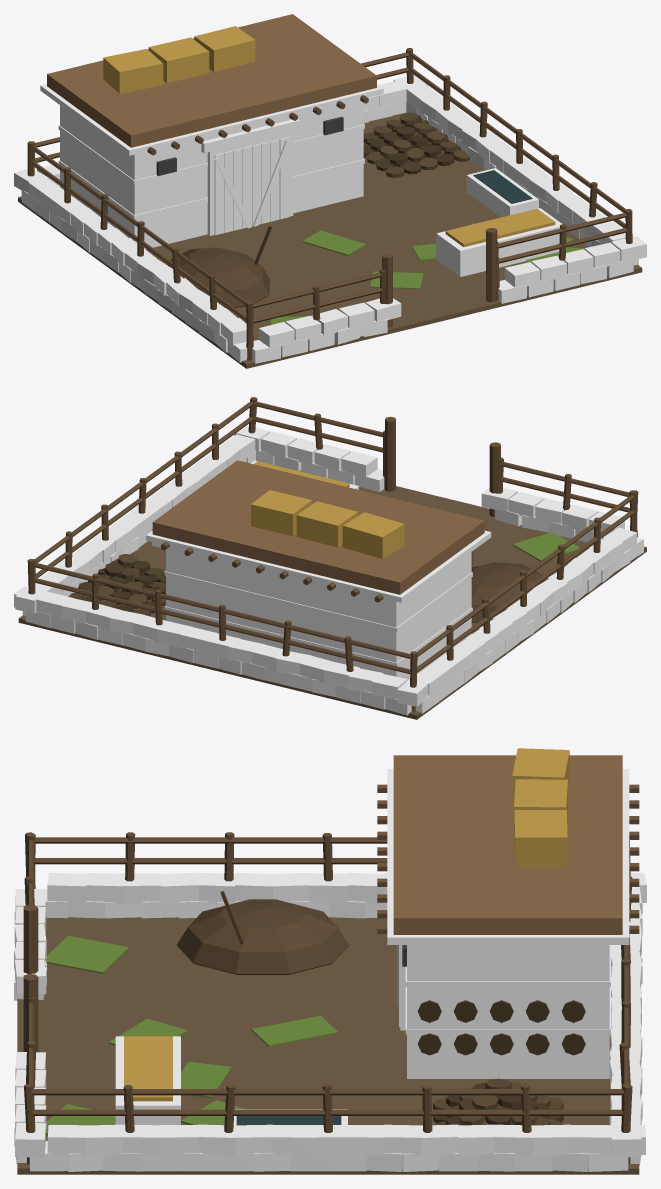
File: ahir.glb
The picture shows the model from 3 angles, top to bottom: view 1: azimuth 30°, elevation 25°; view 2: azimuth 150°, elevation 25°; view 3: azimuth 270°, elevation 25°; orthographic projection. The views are drawn at different scales.
Visible parts, largest first — view 1: CitDikme; view 2: CitDikme; view 3: CitDikme.
Part boxes in pixels (x1,y1,x2,y2): CitDikme: [14, 14, 646, 368]; CitDikme: [14, 397, 646, 719]; CitDikme: [14, 748, 646, 1174].
Bounding box in the file's own units: 0.9987 × 0.4016 × 1.
